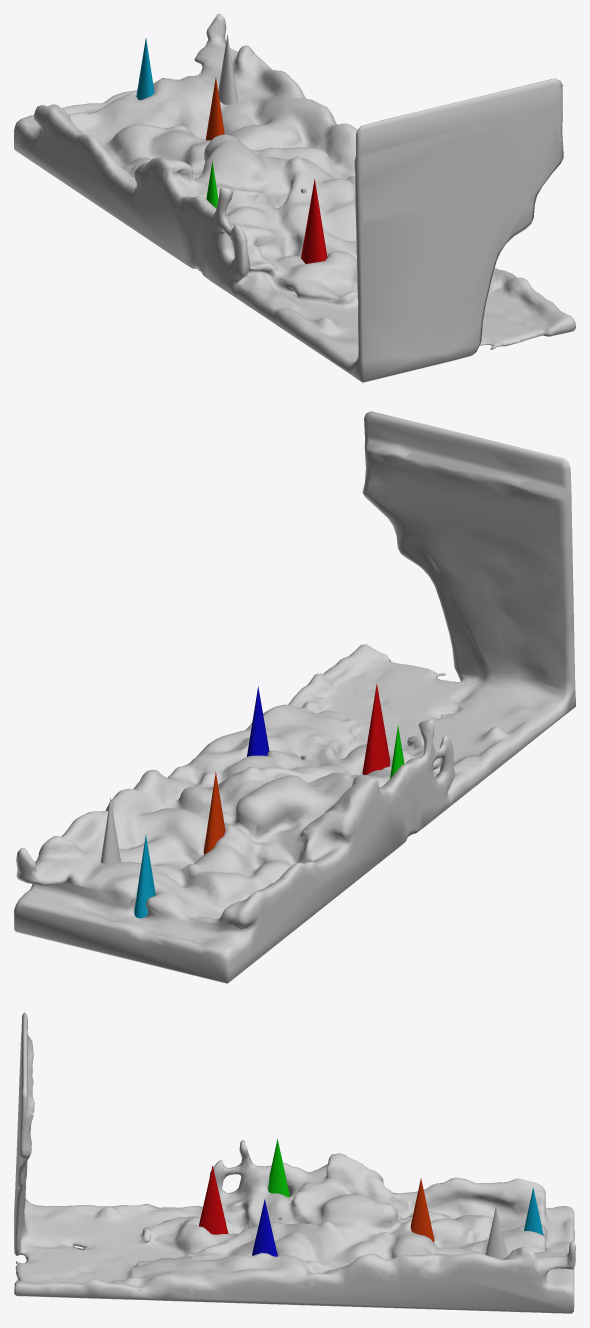
3 renders of one model, top to bottom at view 1: azimuth 30°, elevation 25°; view 2: azimuth 150°, elevation 25°; view 3: azimuth 270°, elevation 25°, orthographic. The views are drawn at different scales.
Visible parts, largest first — view 1: Liquid_Domain, 円錐.001, 円錐, 円錐.004, 円錐.005; view 2: Liquid_Domain, 円錐.001, 円錐.005, 円錐.004, 円錐.002, 円錐; view 3: Liquid_Domain, 円錐.001, 円錐.002, 円錐.004, 円錐.003, 円錐, 円錐.005.
Boxes of the visible parts, bbox=[...] form: Liquid_Domain: bbox=[14, 14, 575, 382]; 円錐.001: bbox=[301, 179, 327, 263]; 円錐: bbox=[218, 34, 237, 104]; 円錐.004: bbox=[205, 77, 224, 140]; 円錐.005: bbox=[136, 38, 154, 99]; Liquid_Domain: bbox=[14, 411, 575, 983]; 円錐.001: bbox=[362, 683, 389, 774]; 円錐.005: bbox=[134, 835, 155, 918]; 円錐.004: bbox=[203, 771, 225, 854]; 円錐.002: bbox=[247, 686, 269, 756]; 円錐: bbox=[100, 797, 120, 863]; Liquid_Domain: bbox=[14, 1012, 575, 1313]; 円錐.001: bbox=[199, 1165, 228, 1234]; 円錐.002: bbox=[252, 1199, 277, 1256]; 円錐.004: bbox=[410, 1178, 434, 1241]; 円錐.003: bbox=[268, 1139, 289, 1197]; 円錐: bbox=[485, 1205, 506, 1258]; 円錐.005: bbox=[524, 1188, 546, 1249].
Bounding box in the file's own units: 129 × 157 × 362.
